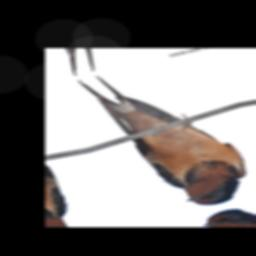Swallow: (75, 56, 256, 217)
